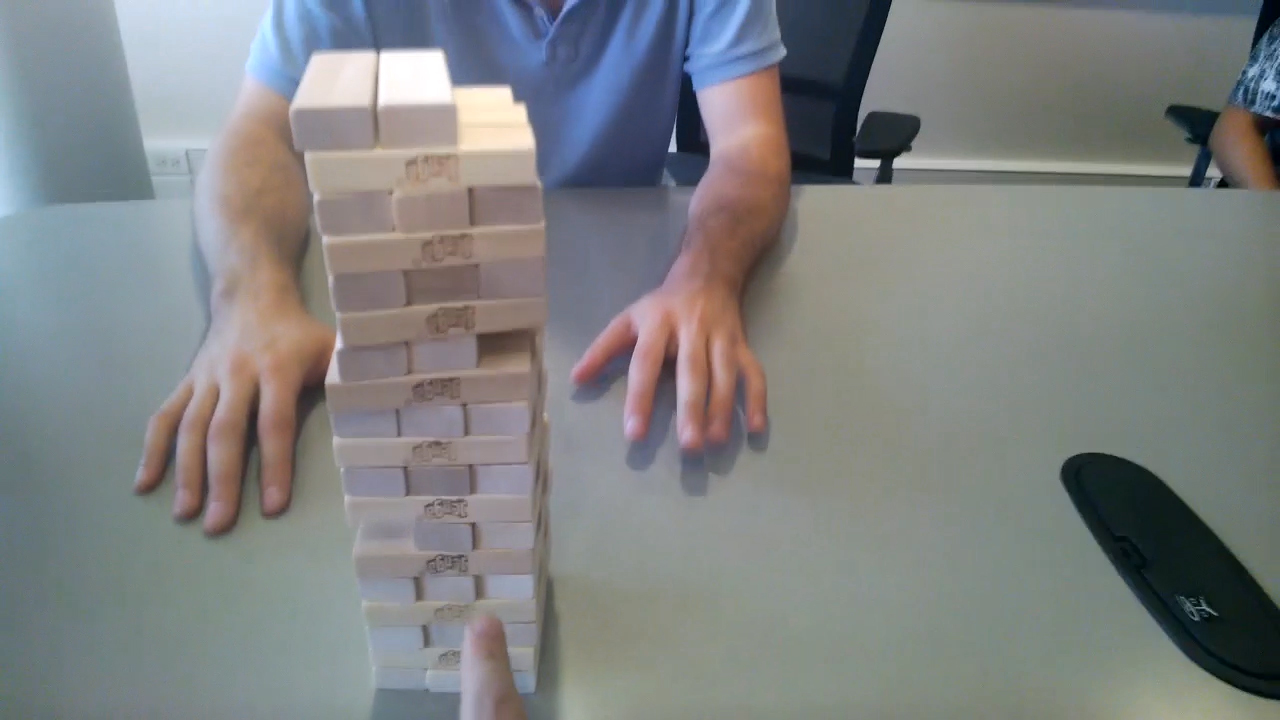hand: (137, 300, 334, 526), (579, 282, 762, 435), (463, 612, 526, 716)
